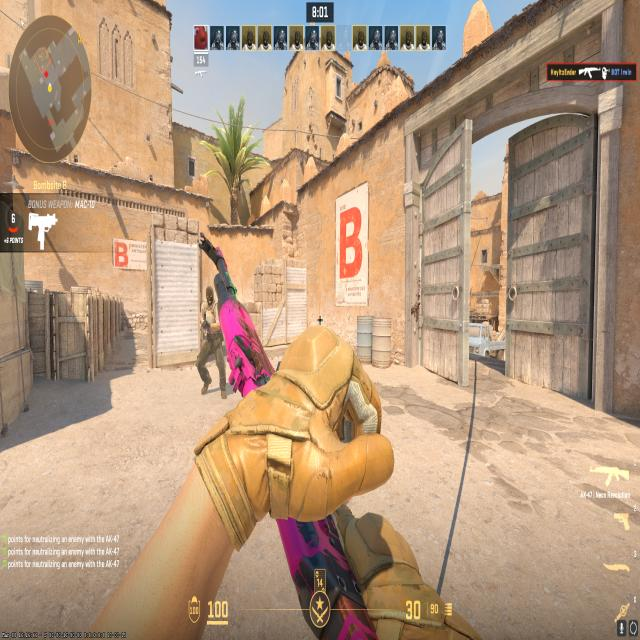t: (193, 284, 228, 394)
